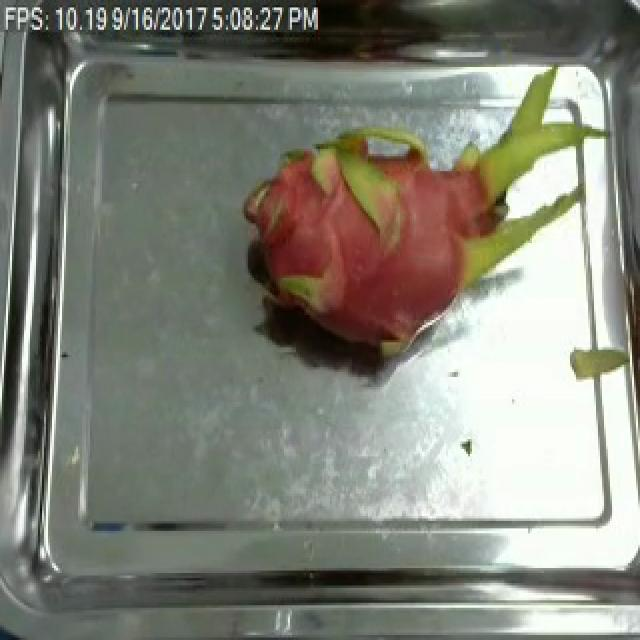fruit: (230, 67, 606, 394)
